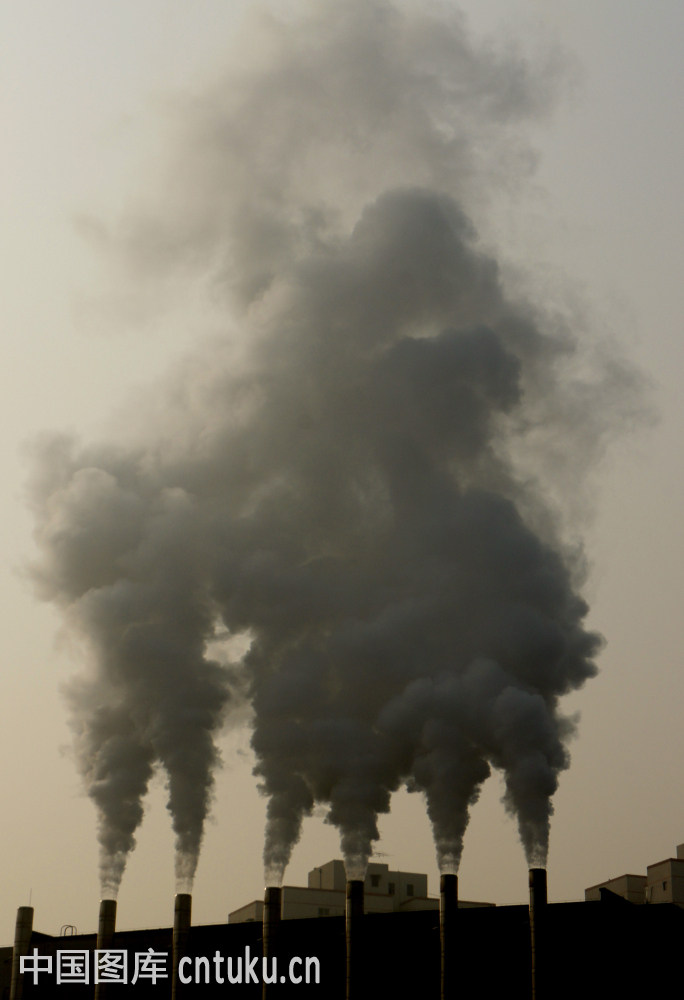dust: (213, 556, 425, 899), (399, 575, 611, 885), (27, 571, 227, 899)
